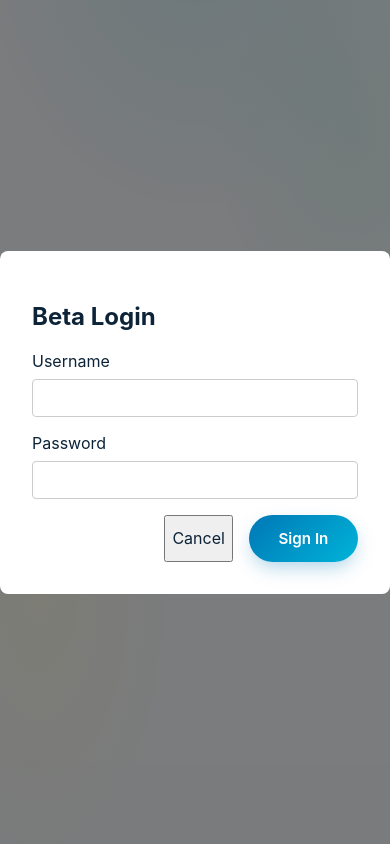
Scenario: LoginModal › shows error message on failed login
This screenshot has width=390, height=844.
Step 1. Type "wrong" into the field with test id "username" → (195, 398), box [32,379,358,417]
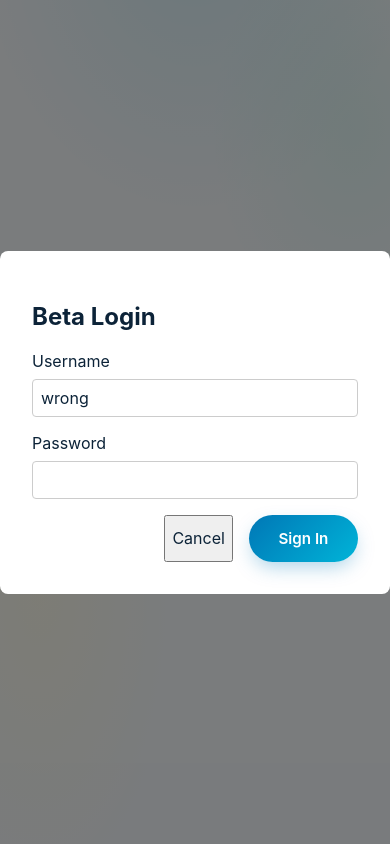
Step 2. Type "wrong" into the password field with test id "password" → (195, 480), box [32,461,358,499]
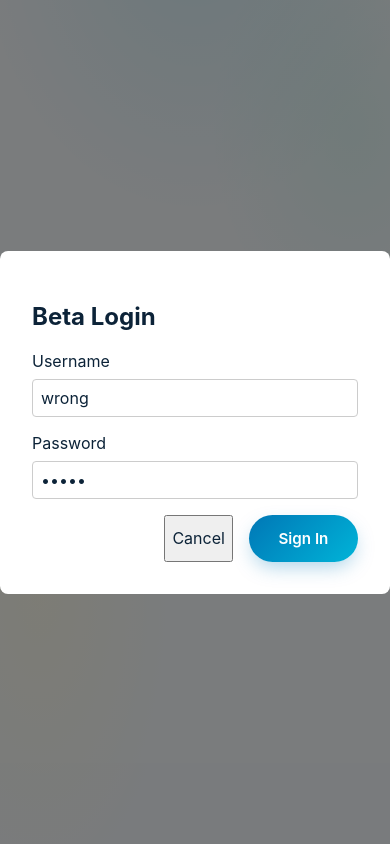
Step 3. Submit the form, box [32,351,358,562]
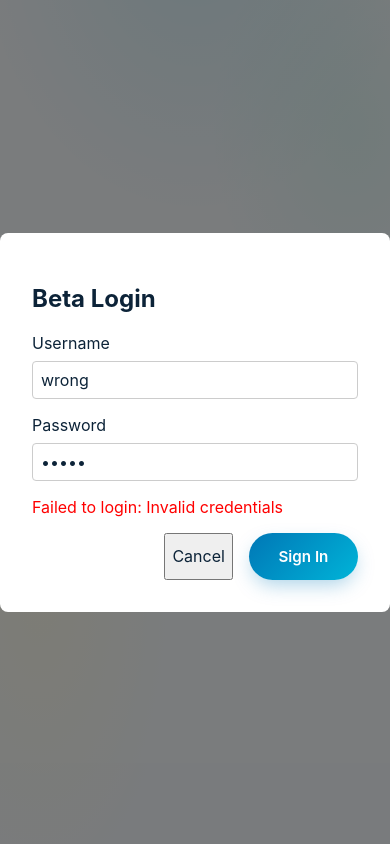
Expected: the text "Failed to login" is shown, [32,497,283,517]
